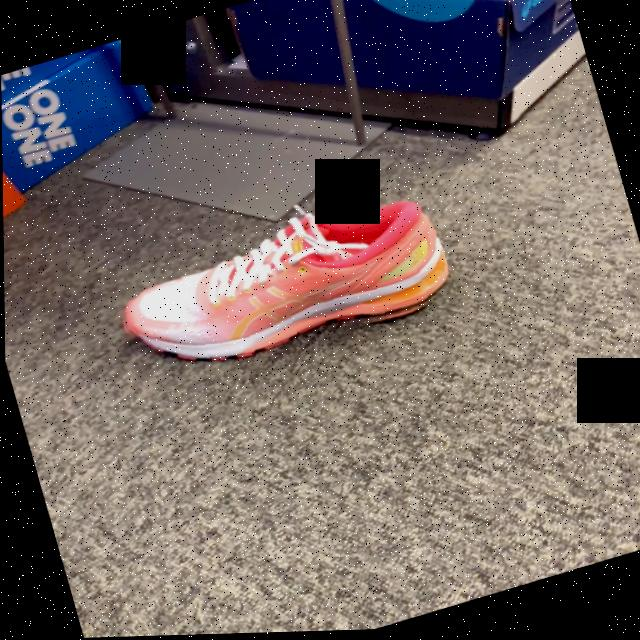shoe: (122, 206, 450, 366)
